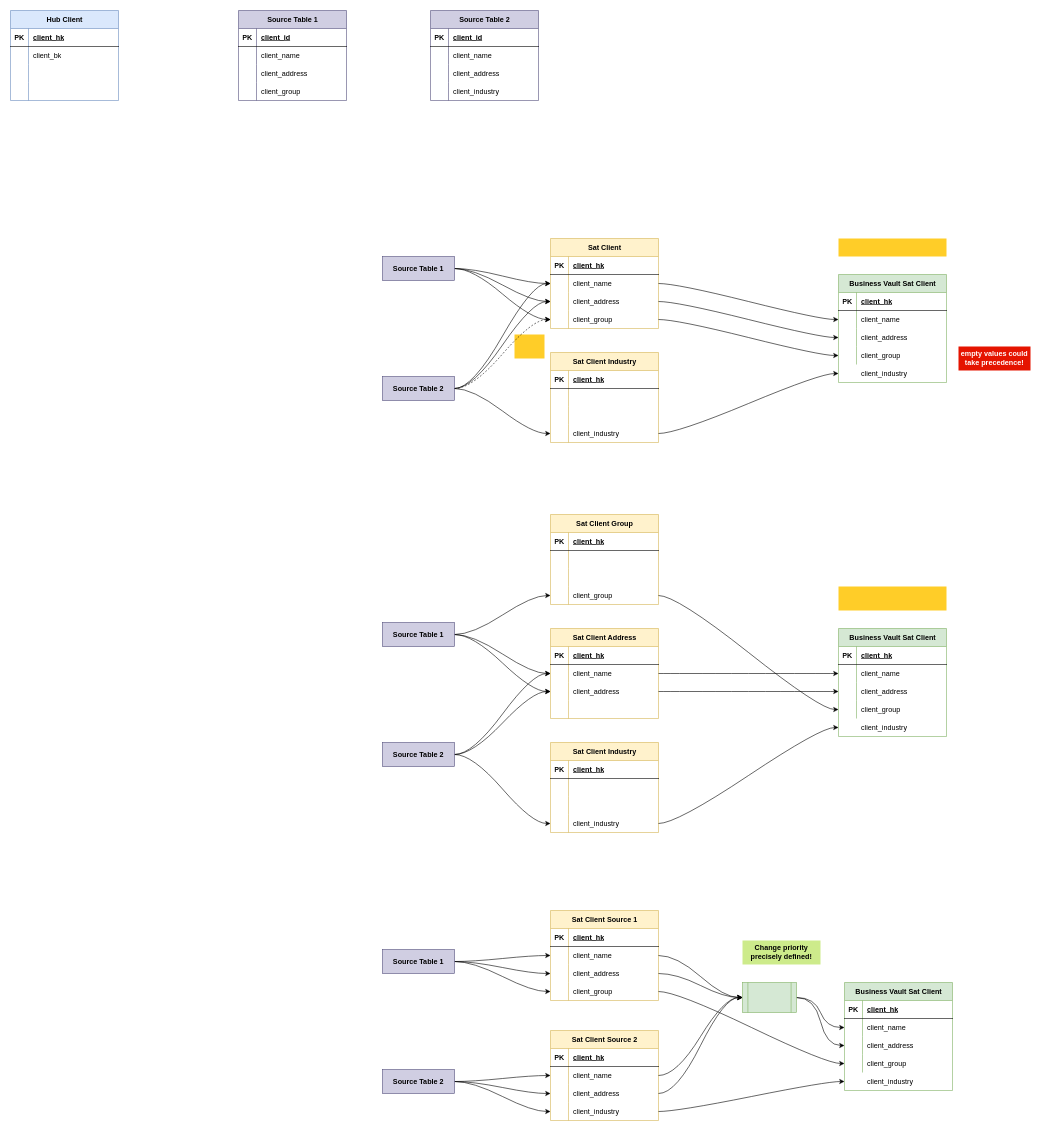
Some shapes in this 1041 by 1131 pixel diagram are drawn without their labels. Here are the shapes that lost their labels. From the top down, the centre of each, then its label:
(x=892, y=247): Last changes win!
(x=529, y=346): empty values!
(x=892, y=598): Last changes win! (can be OK)
(x=769, y=997): Business Rule
